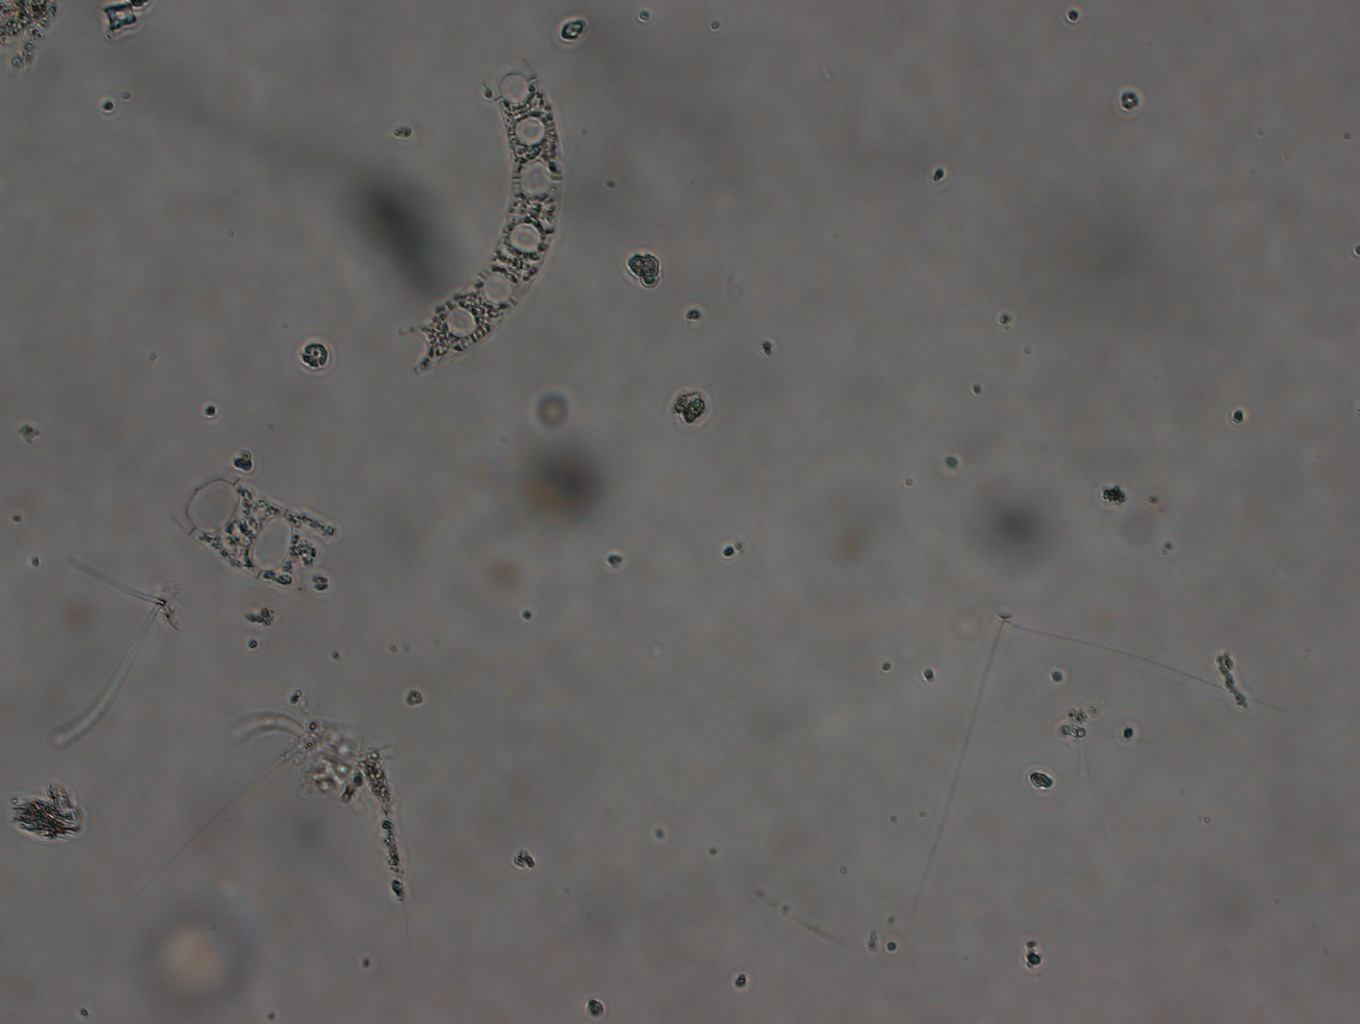eucampia: (397, 46, 570, 372), (160, 461, 346, 598)
